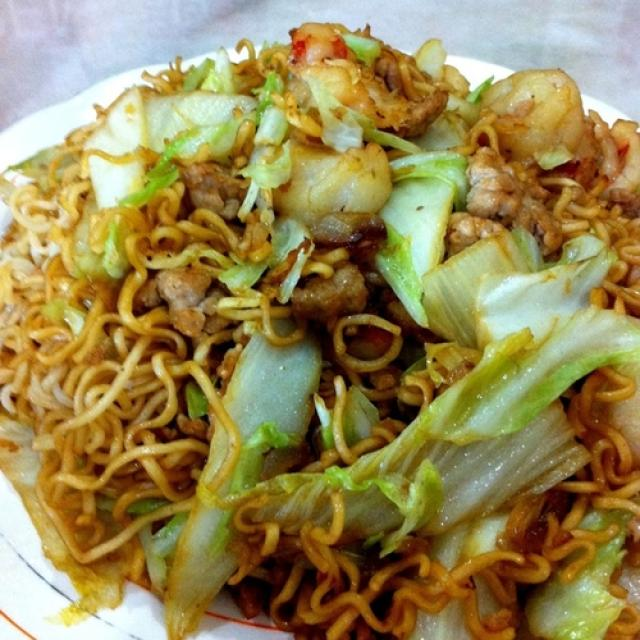面条主食: (9, 13, 635, 618)
